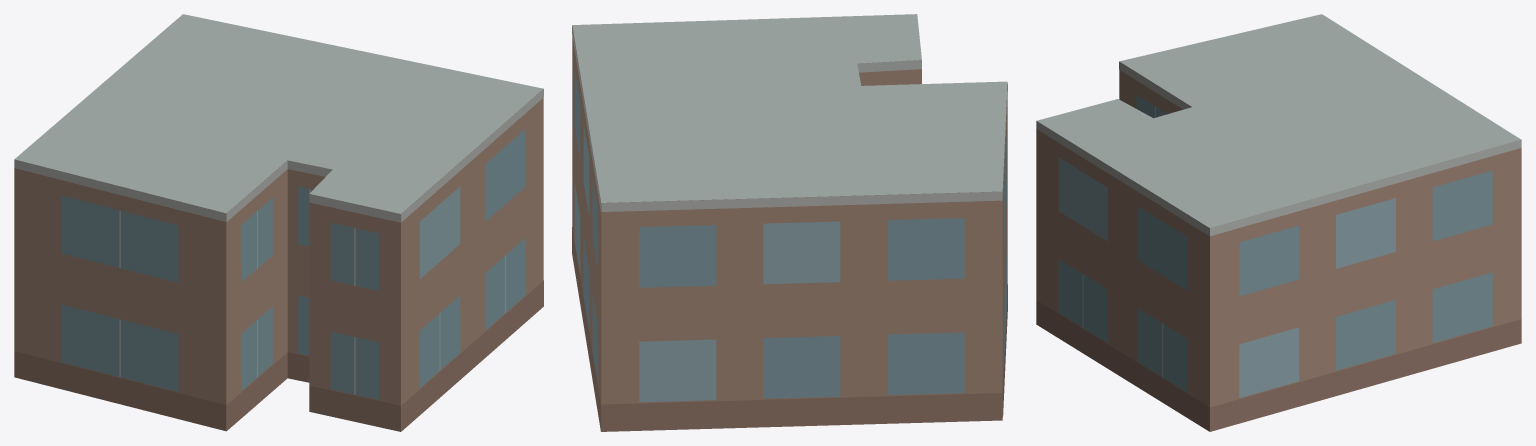
The model's file is survey-upis-32992084.glb.
3 views of the same model, side by side, from view 1: azimuth 30°, elevation 25°; view 2: azimuth 150°, elevation 25°; view 3: azimuth 270°, elevation 25° (orthographic). The views are drawn at different scales.
Parts seen in each view (by area): view 1: survey-upis-32992084.tmp; view 2: survey-upis-32992084.tmp; view 3: survey-upis-32992084.tmp.
Part boxes in pixels (left/top/right/bottom): survey-upis-32992084.tmp: left=14, top=14, right=543, bottom=431; survey-upis-32992084.tmp: left=572, top=14, right=1007, bottom=431; survey-upis-32992084.tmp: left=1036, top=14, right=1521, bottom=431.
Bounding box in the file's own units: 13.77 × 6.1 × 13.18.
